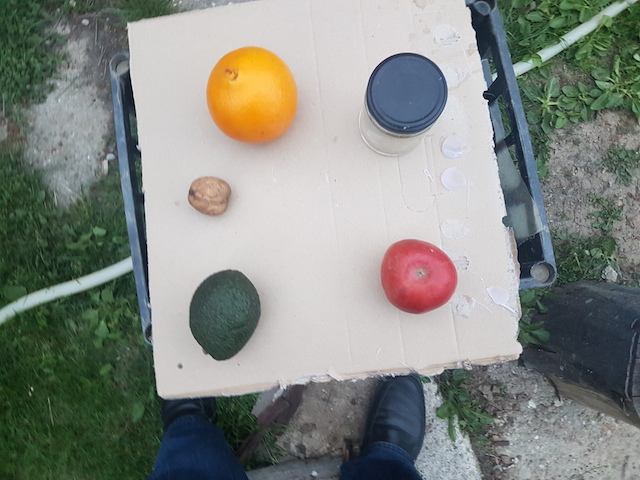apple: (382, 237, 458, 316)
avocado: (184, 265, 259, 361)
nut: (185, 171, 231, 217)
orange: (204, 42, 297, 145)
recipient: (365, 47, 446, 137)
